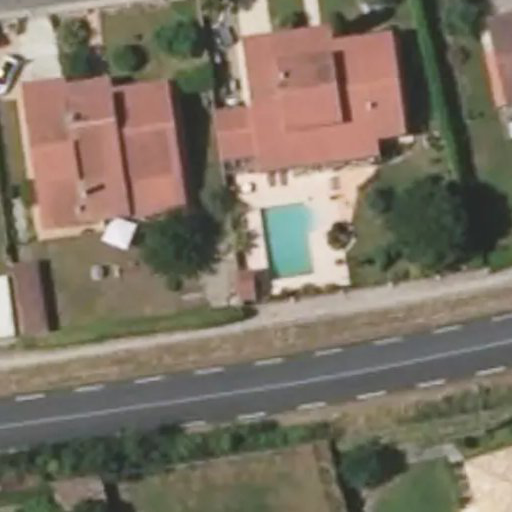pool: (222, 211, 301, 271)
